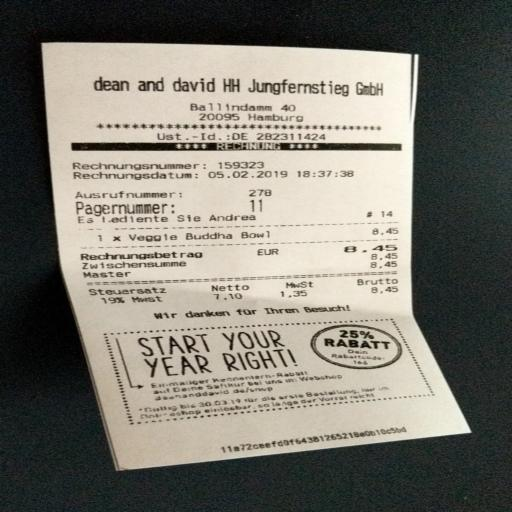paper: (6, 1, 512, 512)
